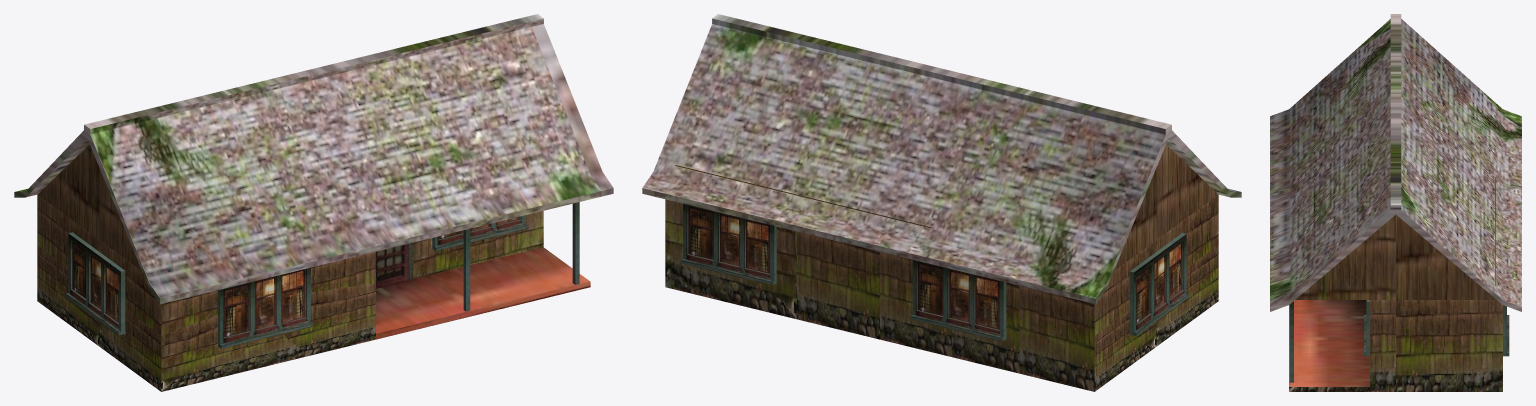
Rendered from house.fbx.
The picture shows the model from 3 angles, left to right: view 1: azimuth 30°, elevation 25°; view 2: azimuth 150°, elevation 25°; view 3: azimuth 270°, elevation 25°; orthographic projection. The views are drawn at different scales.
Visible parts, largest first — view 1: house, door; view 2: house; view 3: house.
Part boxes in pixels (x1,y1,x2,y2): house: (14,14,613,391); door: (376,242,413,288); house: (642,14,1241,391); house: (1270,14,1521,391).
Size of the model in its own units: 1057 by 496 by 589.
1 material, 1 textured.
